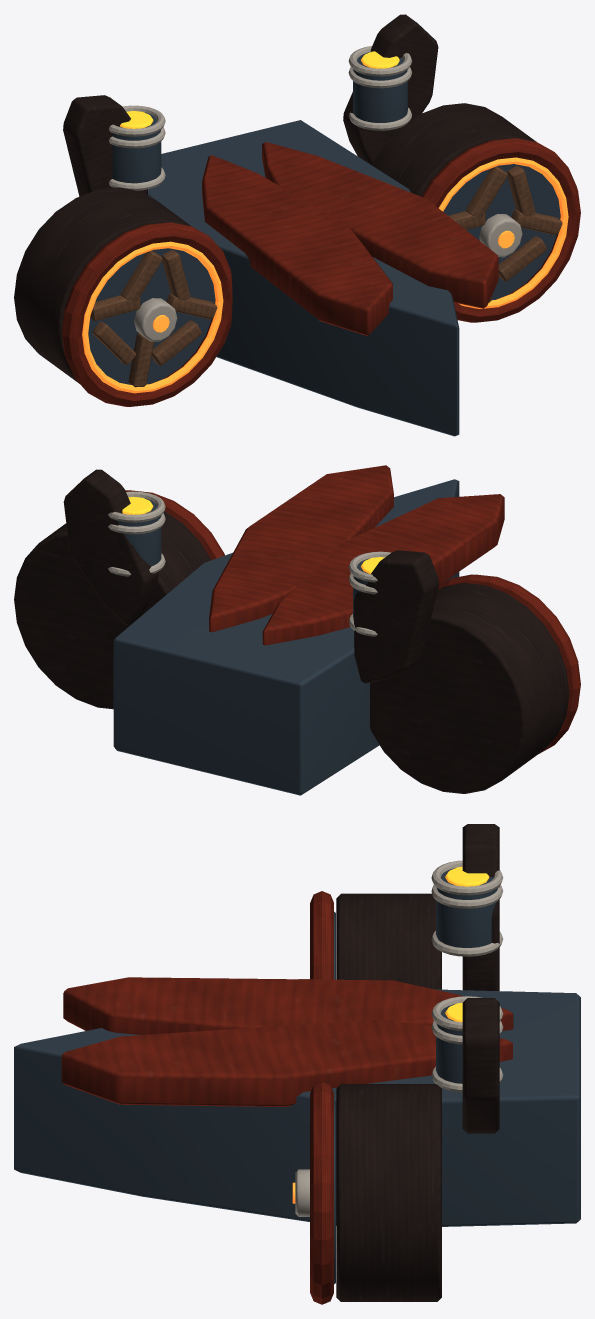
The model's file is ember_drone.glb.
The picture shows the model from 3 angles, top to bottom: view 1: azimuth 30°, elevation 25°; view 2: azimuth 150°, elevation 25°; view 3: azimuth 270°, elevation 25°; orthographic projection. The views are drawn at different scales.
Visible parts, largest first — view 1: Split arrow nose, Pointed interceptor chassis, Swept dorsal vane, Turbine impeller blade, Turbine running light, Turbine hub, Hot exhaust interior.001; view 2: Swept dorsal vane, Pointed interceptor chassis, Split arrow nose, Turbine hub, Hot exhaust interior.001; view 3: Pointed interceptor chassis, Split arrow nose, Swept dorsal vane, Turbine hub, Hot exhaust interior.001.
Boxes of the visible parts, box(x1,y1,x2,y2) form: Split arrow nose: box(62, 138, 580, 406); Pointed interceptor chassis: box(88, 52, 560, 436); Swept dorsal vane: box(14, 14, 536, 383); Turbine impeller blade: box(90, 165, 562, 387); Turbine running light: box(82, 157, 568, 393); Turbine hub: box(109, 46, 522, 341); Hot exhaust interior.001: box(120, 51, 399, 128); Swept dorsal vane: box(14, 469, 569, 793); Pointed interceptor chassis: box(113, 479, 459, 795); Split arrow nose: box(125, 465, 580, 753); Turbine hub: box(108, 491, 391, 636); Hot exhaust interior.001: box(122, 497, 384, 573); Pointed interceptor chassis: box(14, 868, 580, 1284); Split arrow nose: box(61, 891, 513, 1304); Swept dorsal vane: box(336, 824, 499, 1301); Turbine hub: box(295, 860, 503, 1216); Hot exhaust interior.001: box(445, 866, 489, 1022).
Bounding box in the file's own units: 1.47 × 0.6893 × 1.23.
8 materials, 3 textured.
